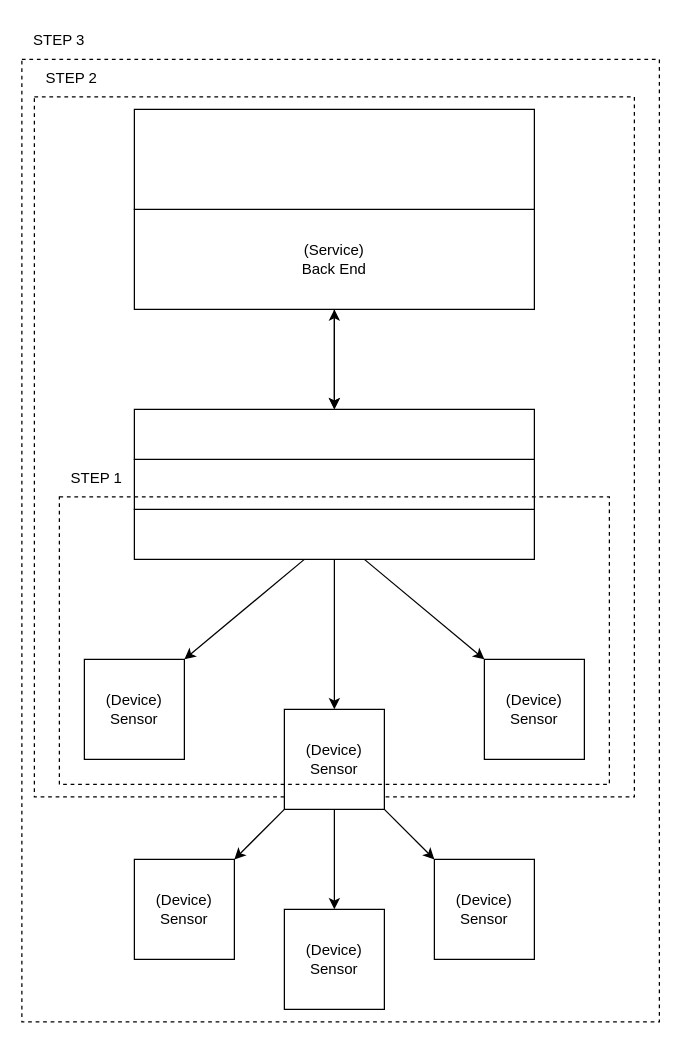
The diagram is 681 pixels wide and 1044 high, and some of its shapes have lost their labels. The shapes that lost their labels are listed below. From the top down, each one's centre as x and y in pixels, then its label:
the point at 333,158: (Service) Front End
the point at 333,433: (Service) Websocket
the point at 333,483: (Cable) Serial USB
the point at 333,533: (Device) Gateway
